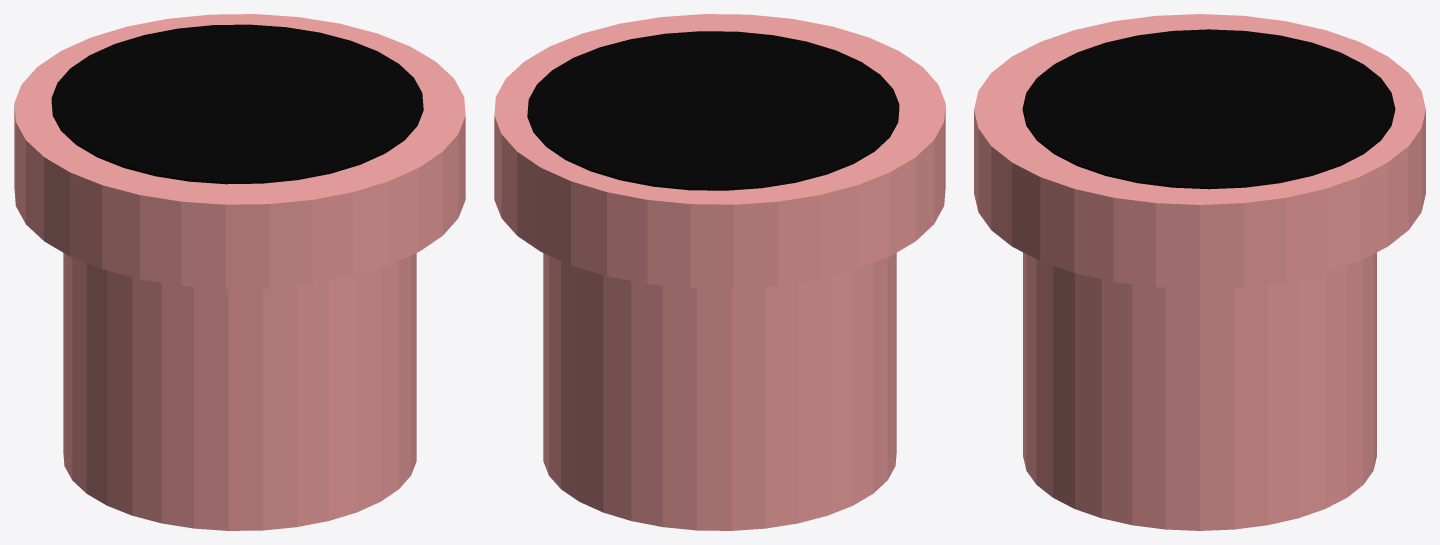
File: pipered.gltf
3 renders of one model, left to right at view 1: azimuth 30°, elevation 25°; view 2: azimuth 150°, elevation 25°; view 3: azimuth 270°, elevation 25°, orthographic.
Parts seen in each view (by area): view 1: Cylinder.004, Cylinder, Cylinder.001; view 2: Cylinder.004, Cylinder, Cylinder.001; view 3: Cylinder.004, Cylinder, Cylinder.001.
Part boxes in pixels (x1=…): Cylinder.004: x1=63, y1=253, x2=416, y2=530; Cylinder: x1=14, y1=14, x2=465, y2=288; Cylinder.001: x1=51, y1=24, x2=423, y2=184; Cylinder.004: x1=543, y1=253, x2=896, y2=530; Cylinder: x1=494, y1=14, x2=945, y2=288; Cylinder.001: x1=527, y1=31, x2=899, y2=190; Cylinder.004: x1=1023, y1=252, x2=1376, y2=530; Cylinder: x1=974, y1=14, x2=1425, y2=288; Cylinder.001: x1=1022, y1=29, x2=1395, y2=189.
Bounding box in the file's own units: 1.04 × 0.8827 × 1.04.
